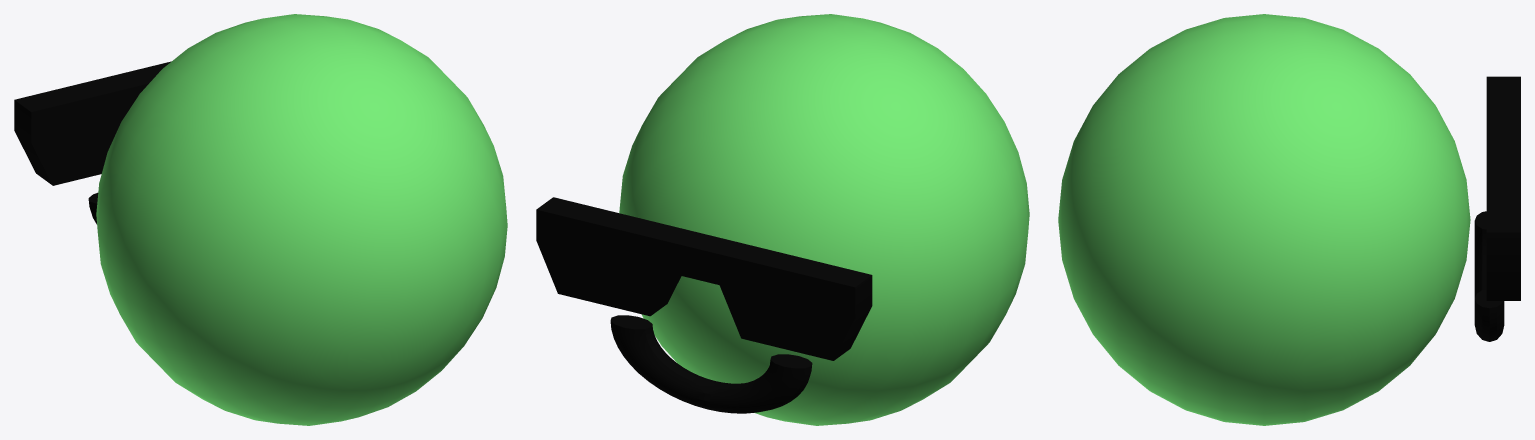
Rendered from player.glb.
3 views of the same model, side by side, from view 1: azimuth 30°, elevation 25°; view 2: azimuth 150°, elevation 25°; view 3: azimuth 270°, elevation 25° (orthographic).
Visible parts, largest first — view 1: Sphere; view 2: Sphere; view 3: Sphere.
Boxes of the visible parts, x1,y1,x2,y2 form: Sphere: (14,14,507,425); Sphere: (536,14,1029,425); Sphere: (1058,14,1520,425).
Bounding box in the file's own units: 0.396 × 0.396 × 0.4443.
